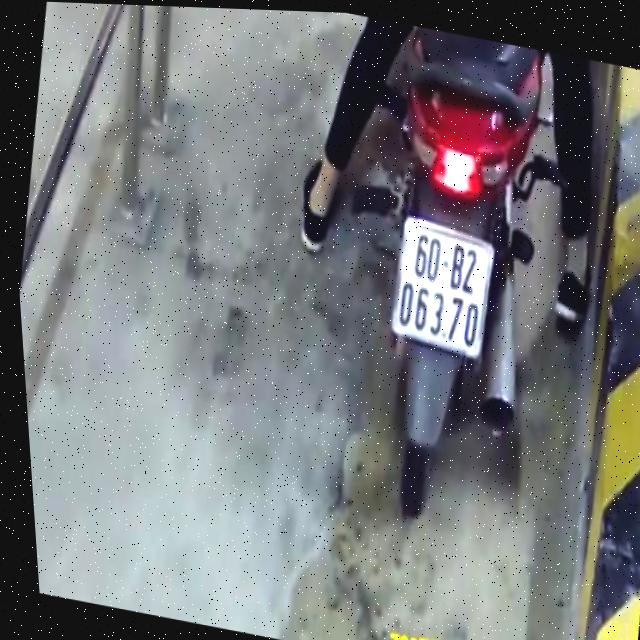motorcycle: (294, 19, 615, 562)
plate: (376, 210, 505, 368)
